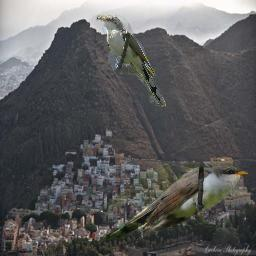Cuckoo: (99, 162, 248, 240), (96, 15, 166, 107)
